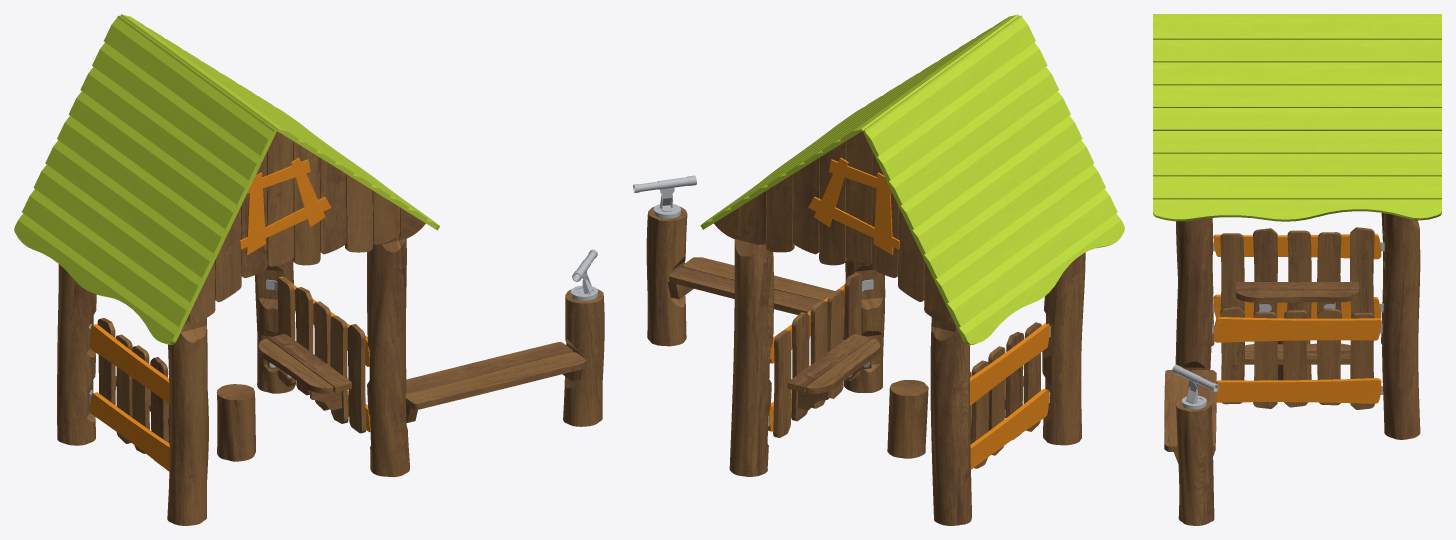
The model's file is home.glb.
The picture shows the model from 3 angles, left to right: view 1: azimuth 30°, elevation 25°; view 2: azimuth 150°, elevation 25°; view 3: azimuth 270°, elevation 25°; orthographic projection. The views are drawn at different scales.
Visible parts, largest first — view 1: Object001; view 2: Object001; view 3: Object001.
Boxes of the visible parts, x1,y1,x2,y2 form: Object001: (14,14,604,525); Object001: (633,14,1124,525); Object001: (1153,14,1441,525).
Bounding box in the file's own units: 2.38 × 1.92 × 1.4.
4 materials, 3 textured.
